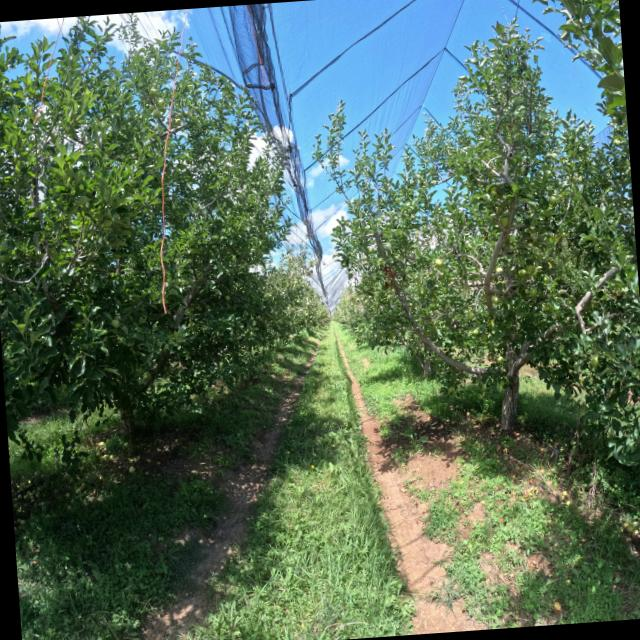-FireBlight-: (381, 262, 396, 294)
